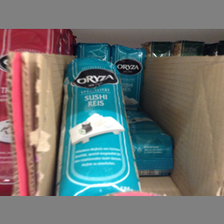rice: (54, 57, 141, 195), (125, 108, 175, 176), (112, 44, 144, 106)
